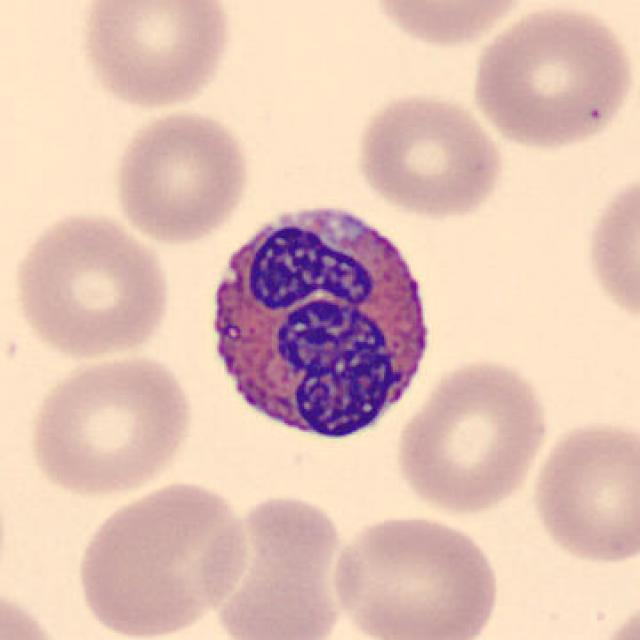Eosinophil: (190, 190, 444, 455)
RBC: (71, 478, 253, 640), (21, 349, 198, 501), (7, 206, 174, 363), (391, 354, 551, 516), (466, 2, 636, 153), (201, 488, 355, 640), (325, 509, 503, 640), (352, 88, 507, 220), (110, 106, 254, 245), (74, 0, 234, 113), (526, 416, 638, 568), (579, 164, 640, 335), (366, 0, 531, 49), (0, 580, 71, 640), (592, 594, 638, 640)
